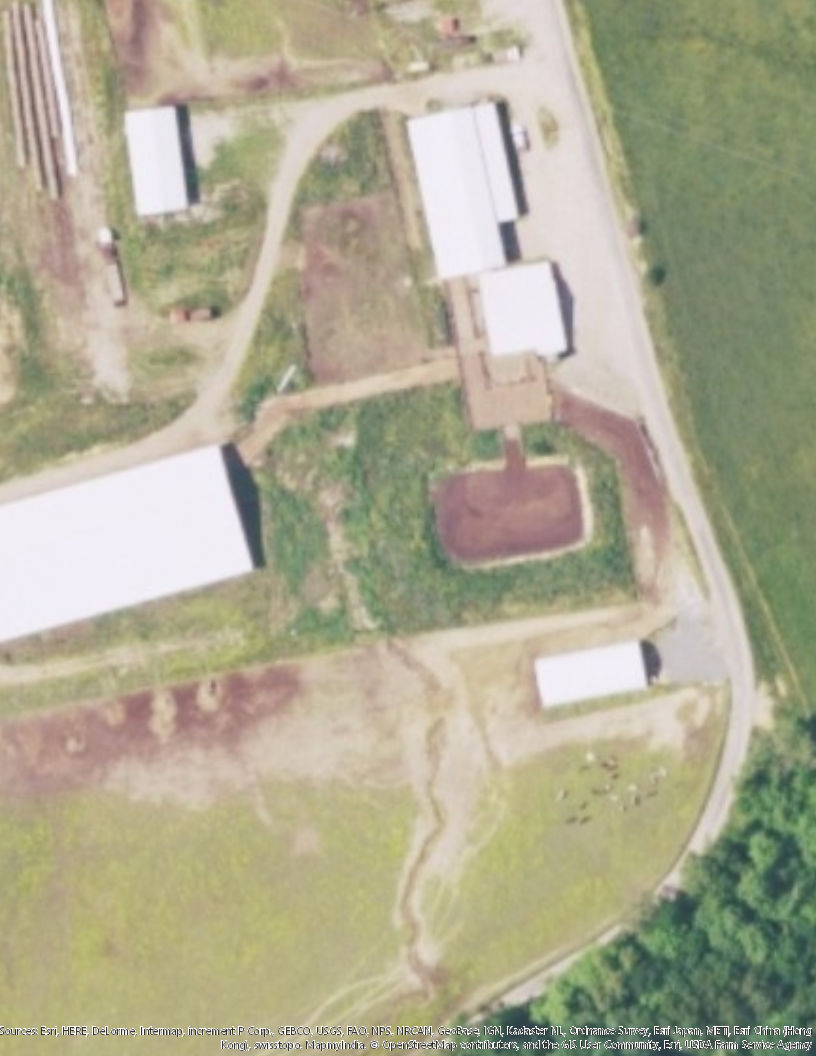cafo: (1, 432, 257, 650), (397, 96, 532, 285), (114, 99, 206, 220), (520, 633, 668, 707), (477, 259, 576, 363)
